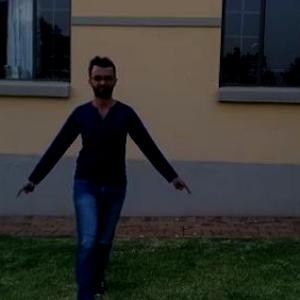land: (37, 72, 164, 264)
